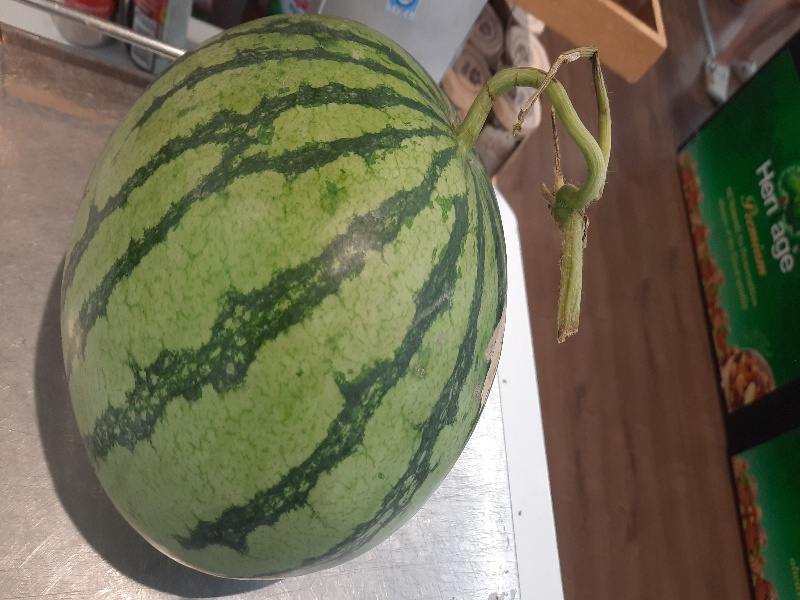fruit: (49, 10, 609, 591)
